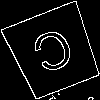C: (28, 26, 82, 83)
